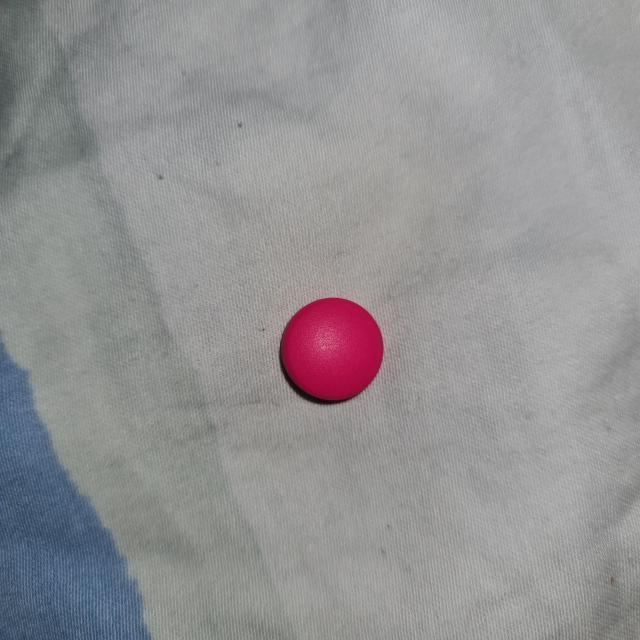pill: (276, 296, 386, 406)
